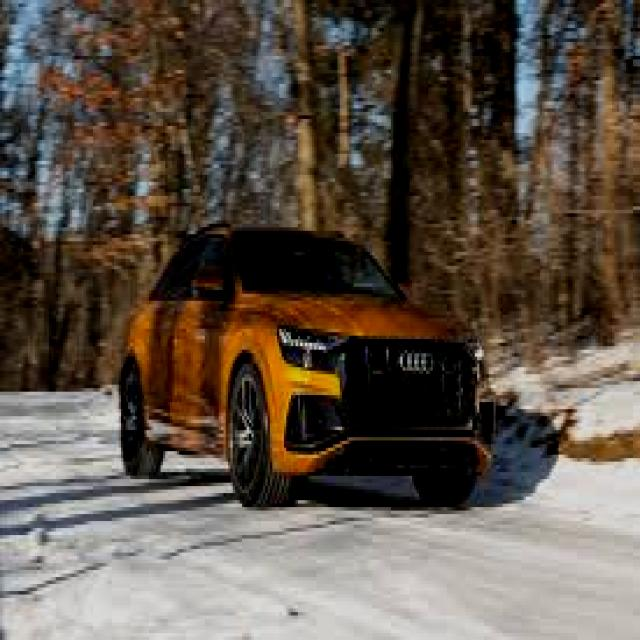SUV: (115, 222, 490, 510)
